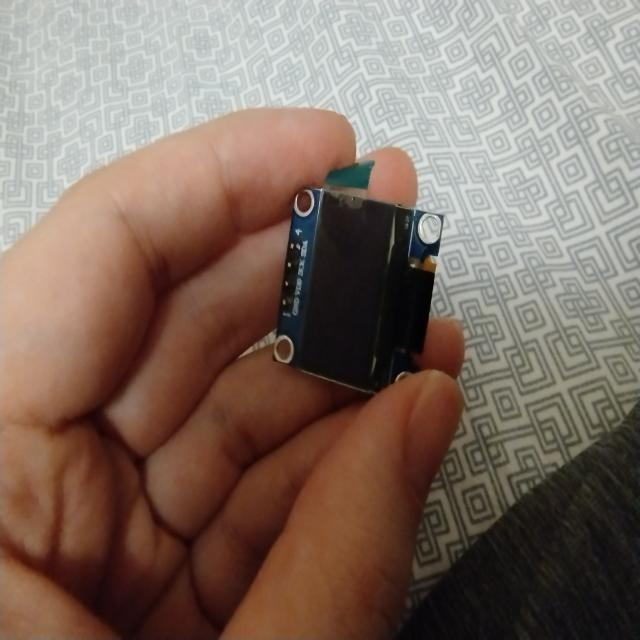oled: (272, 157, 444, 408)
